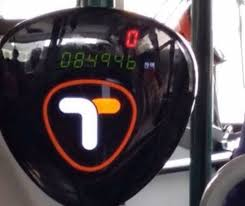terminal: (1, 7, 201, 206)
